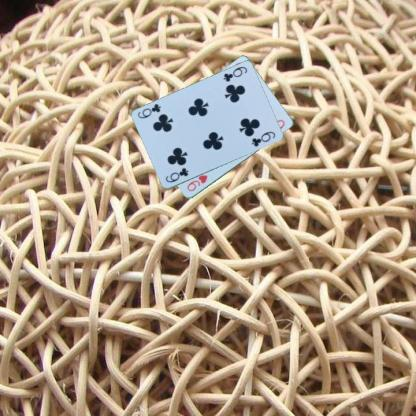6c: (221, 64, 248, 83), (163, 166, 189, 184)
9h: (184, 173, 209, 193)
